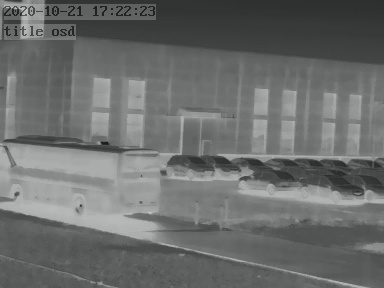vehicle: (4, 132, 168, 218), (296, 173, 363, 202), (238, 169, 294, 195), (166, 153, 209, 179), (348, 173, 382, 200), (206, 153, 242, 177), (233, 155, 270, 171), (261, 155, 296, 169), (347, 156, 381, 170), (318, 156, 348, 170), (295, 155, 324, 169)
